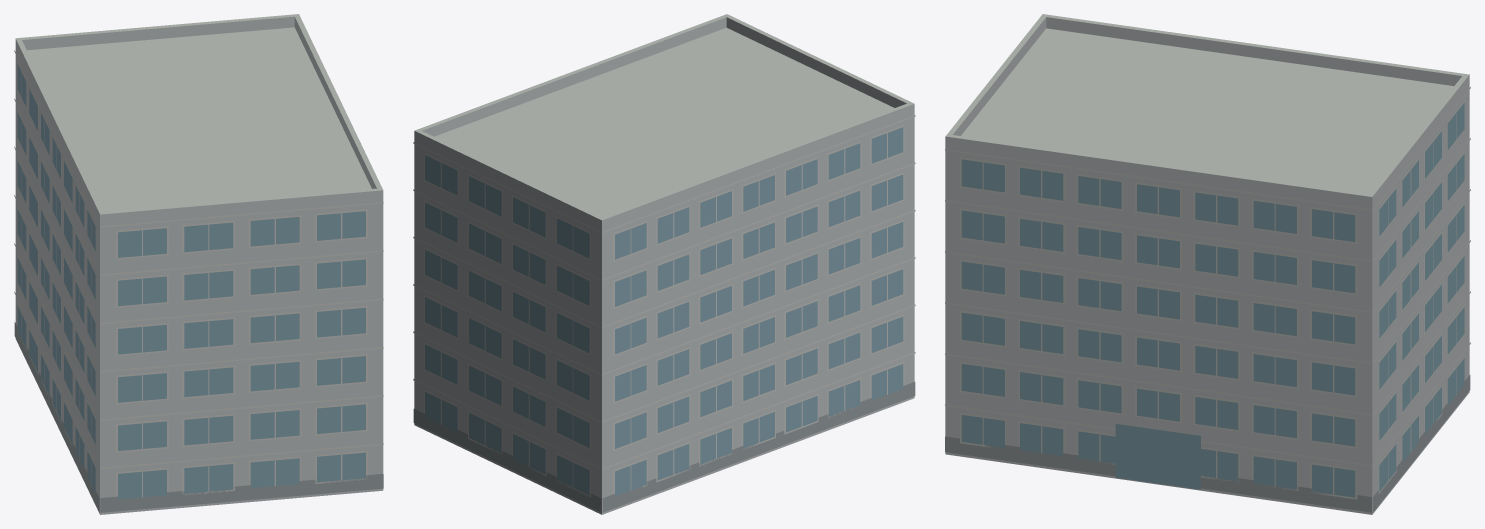
File: public-093c6c2a-986b-4db4-ba6f-d360009108d7.glb
3 renders of one model, left to right at view 1: azimuth 30°, elevation 25°; view 2: azimuth 150°, elevation 25°; view 3: azimuth 270°, elevation 25°, orthographic. The views are drawn at different scales.
Parts seen in each view (by area): view 1: public-093c6c2a-986b-4db4-ba6f-d360009108d7; view 2: public-093c6c2a-986b-4db4-ba6f-d360009108d7; view 3: public-093c6c2a-986b-4db4-ba6f-d360009108d7.
Boxes of the visible parts, box(x1,y1,x2,y2) form: public-093c6c2a-986b-4db4-ba6f-d360009108d7: box(14, 14, 383, 514); public-093c6c2a-986b-4db4-ba6f-d360009108d7: box(413, 14, 915, 514); public-093c6c2a-986b-4db4-ba6f-d360009108d7: box(945, 14, 1470, 514).
Bounding box in the file's own units: 22.74 × 18.3 × 27.48.
